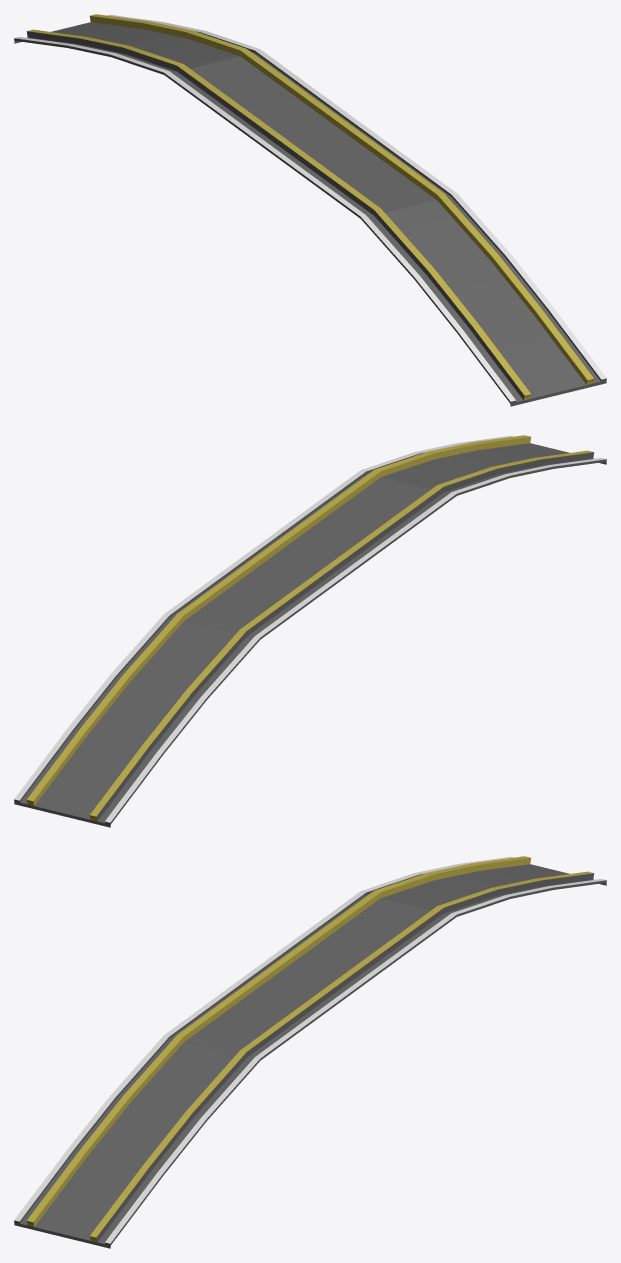
The model's file is Mundhwa bridge.fbx.
The picture shows the model from 3 angles, top to bottom: view 1: azimuth 30°, elevation 25°; view 2: azimuth 150°, elevation 25°; view 3: azimuth 330°, elevation 25°; orthographic projection.
Parts seen in each view (by area): view 1: pPlane3; view 2: pPlane3; view 3: pPlane3.
Part boxes in pixels (x1=…): pPlane3: x1=14, y1=14, x2=606, y2=406; pPlane3: x1=14, y1=435, x2=606, y2=827; pPlane3: x1=14, y1=856, x2=606, y2=1248.
Bounding box in the file's own units: 1015 × 848 × 9090.
